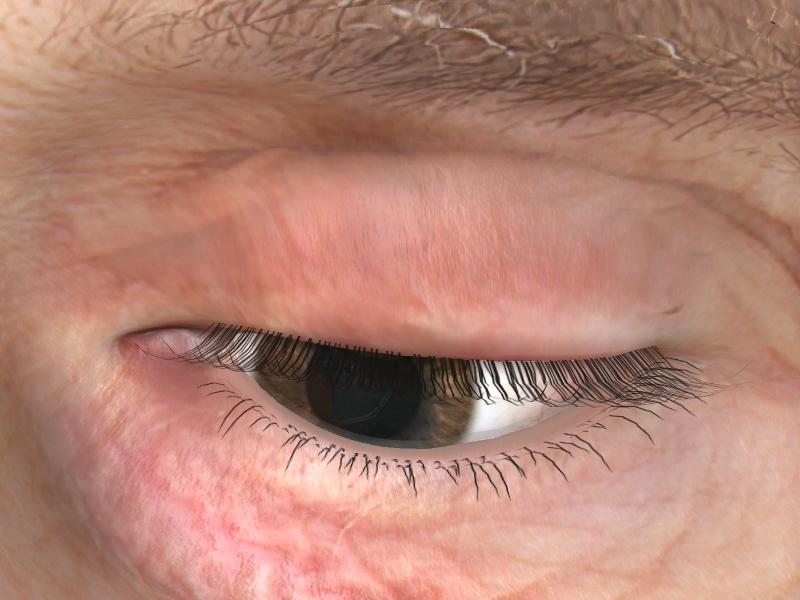eye: (254, 330, 474, 453)
